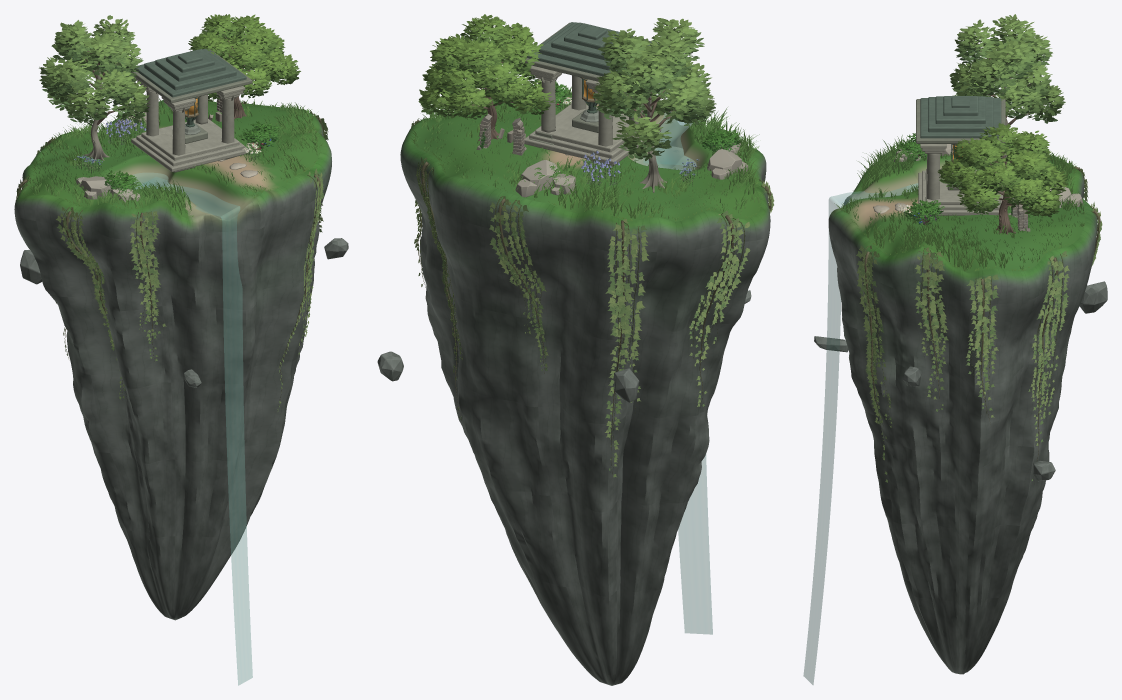
The model's file is phong-dang.glb.
3 views of the same model, side by side, from view 1: azimuth 30°, elevation 25°; view 2: azimuth 150°, elevation 25°; view 3: azimuth 270°, elevation 25° (orthographic). The views are drawn at different scales.
Parts seen in each view (by area): view 1: Wind spire continuous weathered mineral cliff, Wind spire meadow and sculpted riverbed, Silver birch leaves.001, Wind spire round-over falling water, Wind spire clustered meadow blades, Wind spire Lobed ivy curtains, Meadow oak leaves.001, Beacon raised platform.002, Wind spire connected winding outlet, Beacon carved roof tier.002, Beacon carved roof tier.001, Beacon carved roof tier (+13 smaller); view 2: Wind spire continuous weathered mineral cliff, Wind spire meadow and sculpted riverbed, Silver birch leaves.001, Wind spire Lobed ivy curtains, Meadow oak leaves.001, Wind spire clustered meadow blades, Wind spire round-over falling water, Wind spire Branching ivy stems, Beacon raised platform.002, Wind spire Woody ivy leaders, Wind spire connected winding outlet, Beacon carved roof tier.002 (+12 smaller); view 3: Wind spire continuous weathered mineral cliff, Wind spire meadow and sculpted riverbed, Wind spire Lobed ivy curtains, Meadow oak leaves.001, Silver birch leaves.001, Wind spire clustered meadow blades, Wind spire round-over falling water, Wind spire Branching ivy stems, Wind spire Woody ivy leaders, Beacon carved roof tier.001, Beacon carved roof tier.002, Beacon carved roof tier.003 (+8 smaller).
Boxes of the visible parts, x1,y1,x2,y2 form: Wind spire continuous weathered mineral cliff: [14, 100, 331, 620]; Wind spire meadow and sculpted riverbed: [24, 101, 321, 220]; Silver birch leaves.001: [39, 15, 150, 125]; Wind spire round-over falling water: [221, 206, 252, 685]; Wind spire clustered meadow blades: [29, 100, 320, 214]; Wind spire Lobed ivy curtains: [16, 101, 328, 411]; Meadow oak leaves.001: [188, 14, 300, 101]; Beacon raised platform.002: [141, 119, 239, 160]; Wind spire connected winding outlet: [136, 177, 238, 216]; Beacon carved roof tier.002: [144, 49, 236, 90]; Beacon carved roof tier.001: [135, 48, 246, 97]; Beacon carved roof tier: [130, 49, 252, 103]; Wind spire continuous weathered mineral cliff: [400, 93, 770, 685]; Wind spire meadow and sculpted riverbed: [414, 93, 761, 221]; Silver birch leaves.001: [592, 18, 716, 161]; Wind spire Lobed ivy curtains: [411, 91, 774, 477]; Meadow oak leaves.001: [418, 14, 554, 119]; Wind spire clustered meadow blades: [414, 83, 765, 220]; Wind spire round-over falling water: [678, 121, 712, 634]; Wind spire Branching ivy stems: [414, 120, 770, 467]; Beacon raised platform.002: [535, 104, 637, 152]; Wind spire Woody ivy leaders: [417, 120, 771, 474]; Wind spire connected winding outlet: [643, 113, 692, 164]; Beacon carved roof tier.002: [538, 22, 644, 70]; Wind spire continuous weathered mineral cliff: [828, 149, 1097, 674]; Wind spire meadow and sculpted riverbed: [839, 147, 1085, 272]; Wind spire Lobed ivy curtains: [856, 162, 1102, 482]; Meadow oak leaves.001: [937, 123, 1067, 217]; Silver birch leaves.001: [949, 14, 1065, 123]; Wind spire clustered meadow blades: [841, 134, 1084, 271]; Wind spire round-over falling water: [803, 196, 842, 684]; Wind spire Branching ivy stems: [862, 166, 1099, 442]; Wind spire Woody ivy leaders: [864, 166, 1100, 478]; Beacon carved roof tier.001: [920, 98, 1001, 138]; Beacon carved roof tier.002: [928, 97, 993, 132]; Beacon carved roof tier.003: [935, 96, 985, 123].
Bounding box in the file's own units: 16.87 × 31.66 × 13.93.
12 materials, 2 textured.
